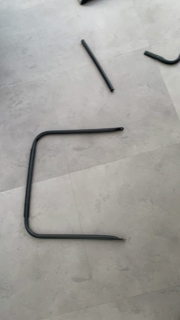C pipe: (24, 126, 133, 246)
i pipe: (78, 37, 116, 96)
